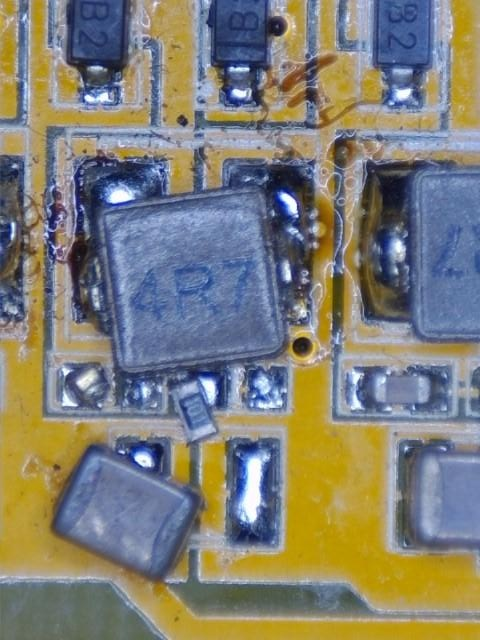pcb_defect: (71, 157, 313, 376), (48, 439, 204, 585), (168, 371, 225, 447)
